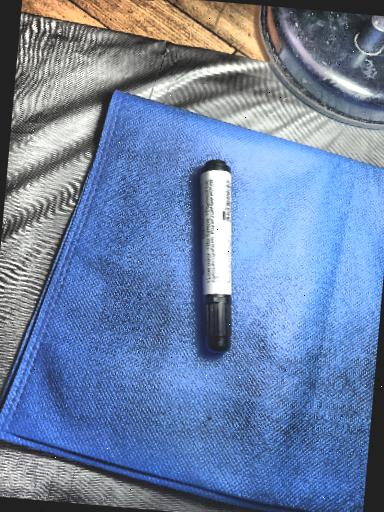marcador negro: (200, 159, 231, 352)
